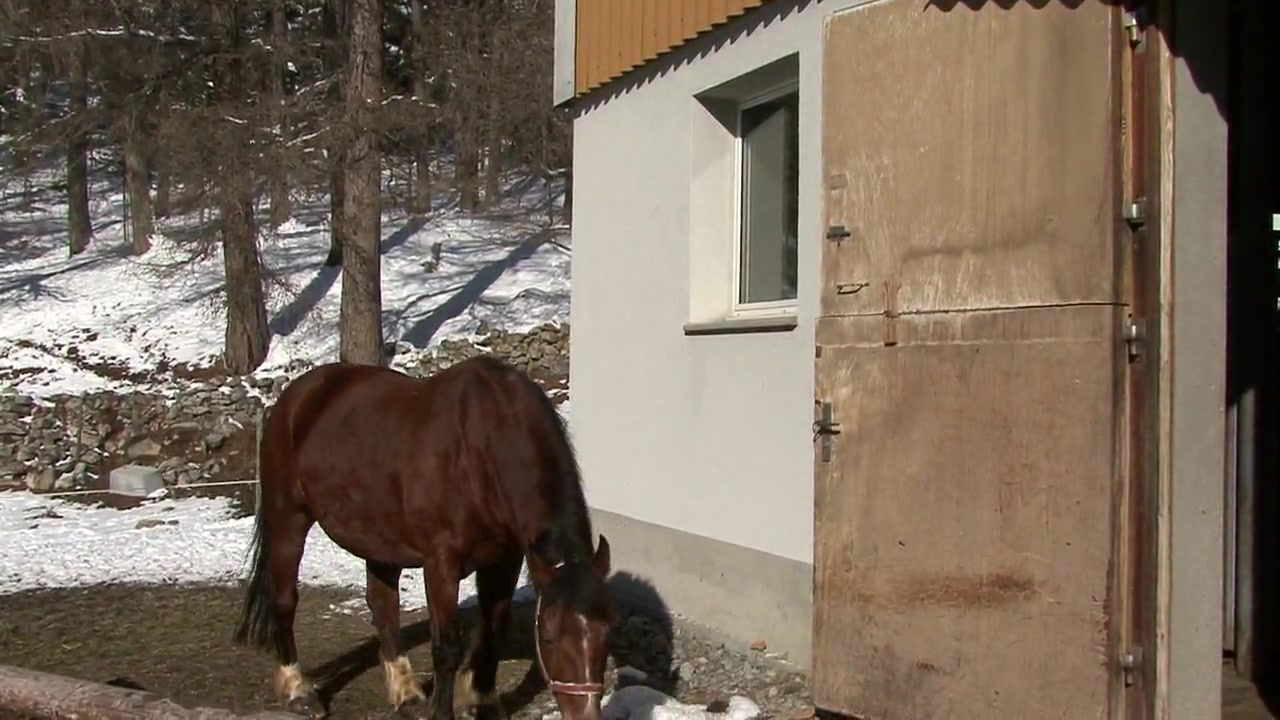horse: (233, 359, 628, 720)
